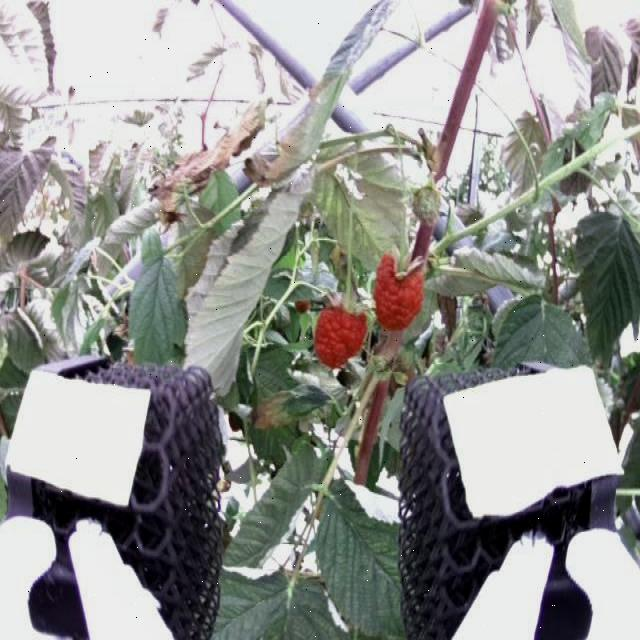Riped berries: (372, 242, 431, 323), (316, 298, 368, 368)
